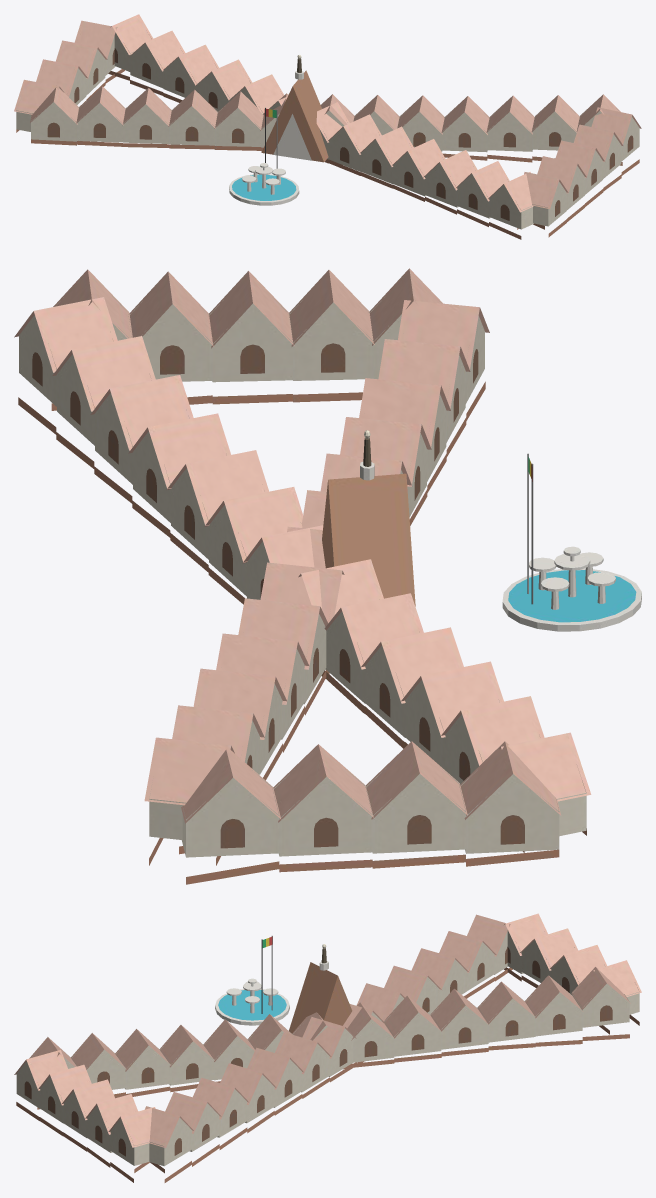
Rendered from memorial_keita.glb.
The picture shows the model from 3 angles, top to bottom: view 1: azimuth 30°, elevation 25°; view 2: azimuth 150°, elevation 25°; view 3: azimuth 270°, elevation 25°; orthographic projection. The views are drawn at different scales.
Visible parts, largest first — view 1: Memorial_Keita; view 2: Memorial_Keita; view 3: Memorial_Keita.
Boxes of the visible parts, x1,y1,x2,y2 form: Memorial_Keita: (14,14,641,239); Memorial_Keita: (14,268,641,884); Memorial_Keita: (14,913,641,1182).
Size of the model in its own units: 0.3028 by 0.0689 by 0.35.
Materials: 1 (1 with a texture image).
